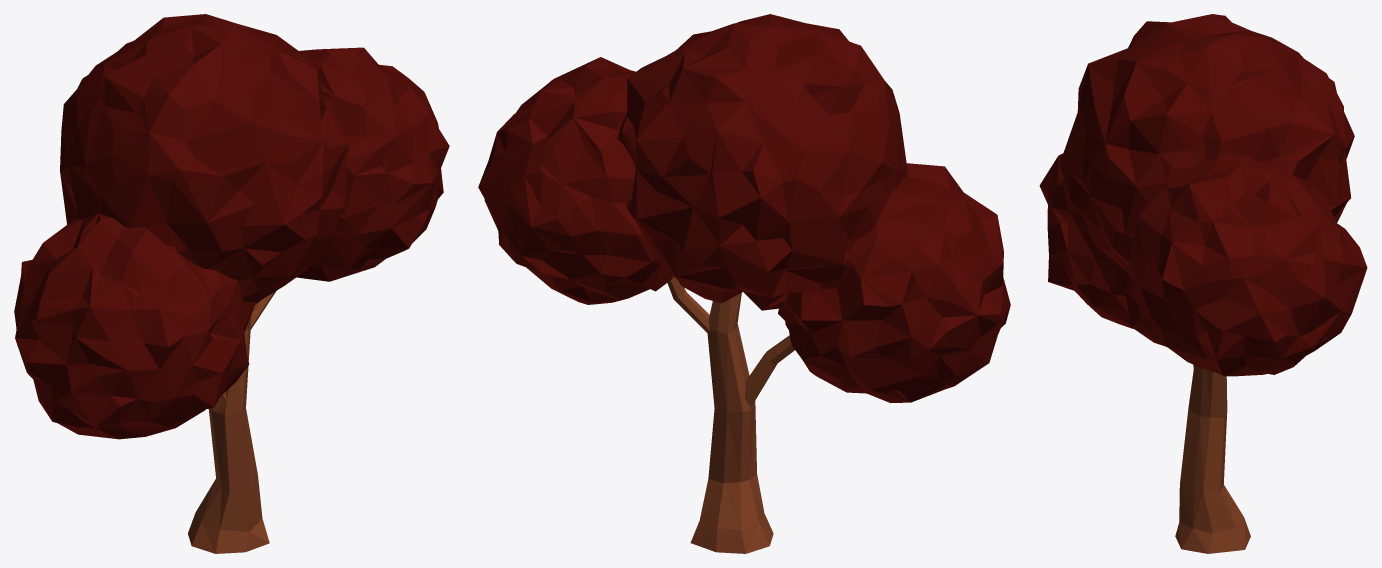
File: burning-growing-tree2-2.glb
3 renders of one model, left to right at view 1: azimuth 30°, elevation 25°; view 2: azimuth 150°, elevation 25°; view 3: azimuth 270°, elevation 25°, orthographic. The views are drawn at different scales.
Parts seen in each view (by area): view 1: Tree.001; view 2: Tree.001; view 3: Tree.001.
Boxes of the visible parts, <box> form: Tree.001: <box>14,14,449,553</box>; Tree.001: <box>478,14,1010,553</box>; Tree.001: <box>1039,14,1367,553</box>.
Bounding box in the file's own units: 0.4208 × 0.4557 × 0.2745.
